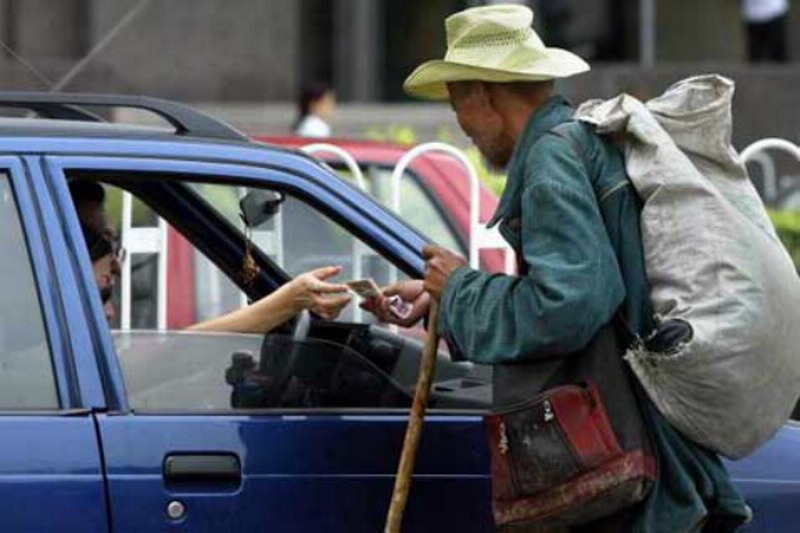pemulung: (373, 4, 800, 533)
